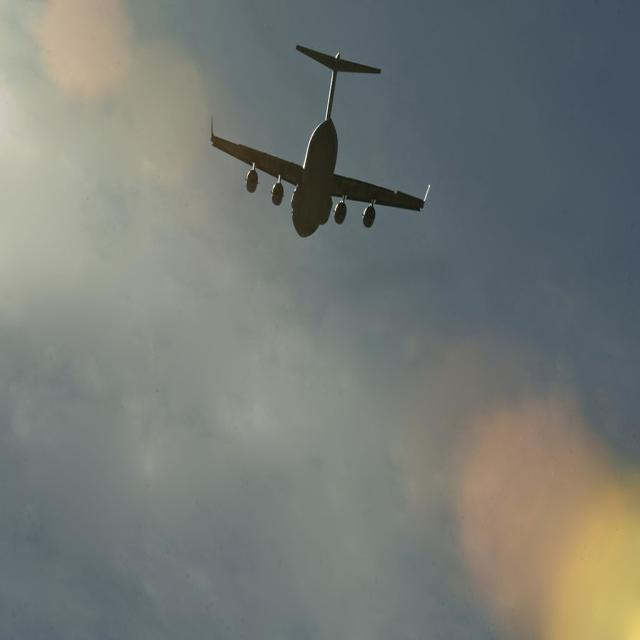MIL_Plane: (210, 43, 430, 239)
